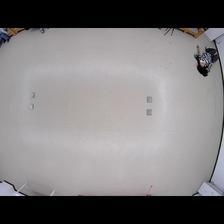fall: (194, 42, 219, 78)
